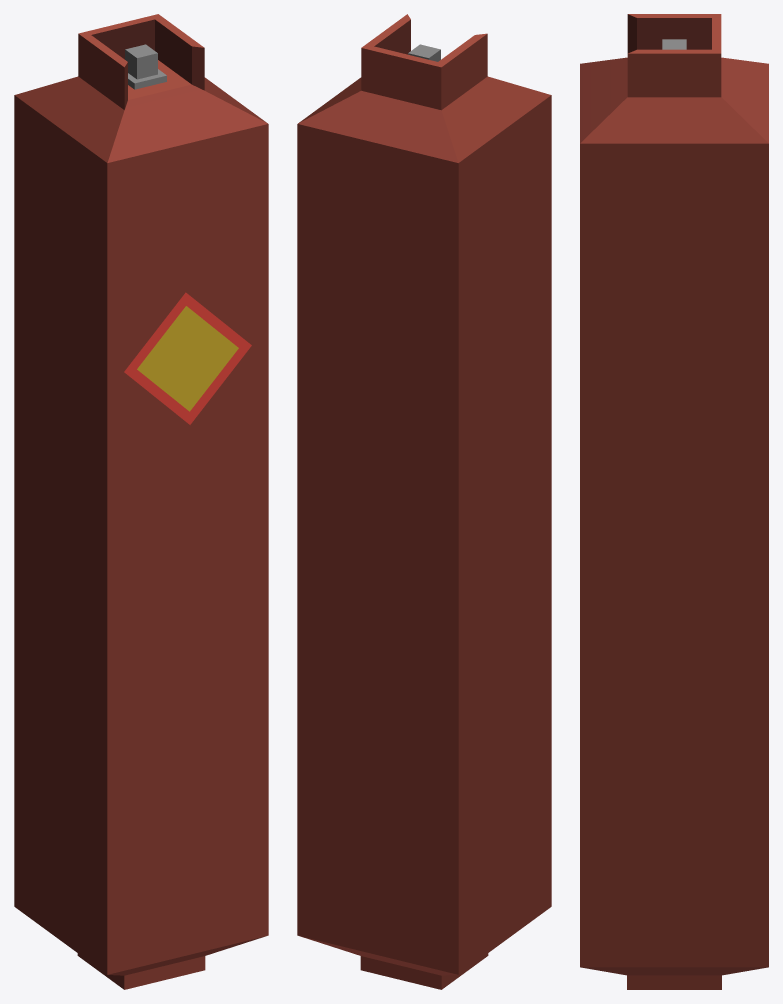
The model's file is SA_Prop_GasBottle_03.glb.
The picture shows the model from 3 angles, left to right: view 1: azimuth 30°, elevation 25°; view 2: azimuth 150°, elevation 25°; view 3: azimuth 270°, elevation 25°; orthographic projection.
Parts seen in each view (by area): view 1: SA_Prop_GasBottle_03; view 2: SA_Prop_GasBottle_03; view 3: SA_Prop_GasBottle_03.
Part boxes in pixels (left/top/right/bottom): SA_Prop_GasBottle_03: left=14, top=14, right=268, bottom=989; SA_Prop_GasBottle_03: left=297, top=14, right=551, bottom=989; SA_Prop_GasBottle_03: left=580, top=14, right=768, bottom=989.
Size of the model in its own units: 0.1267 by 0.6933 by 0.1267.
1 material, 1 textured.
